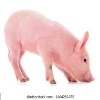heo: (2, 8, 96, 85)
